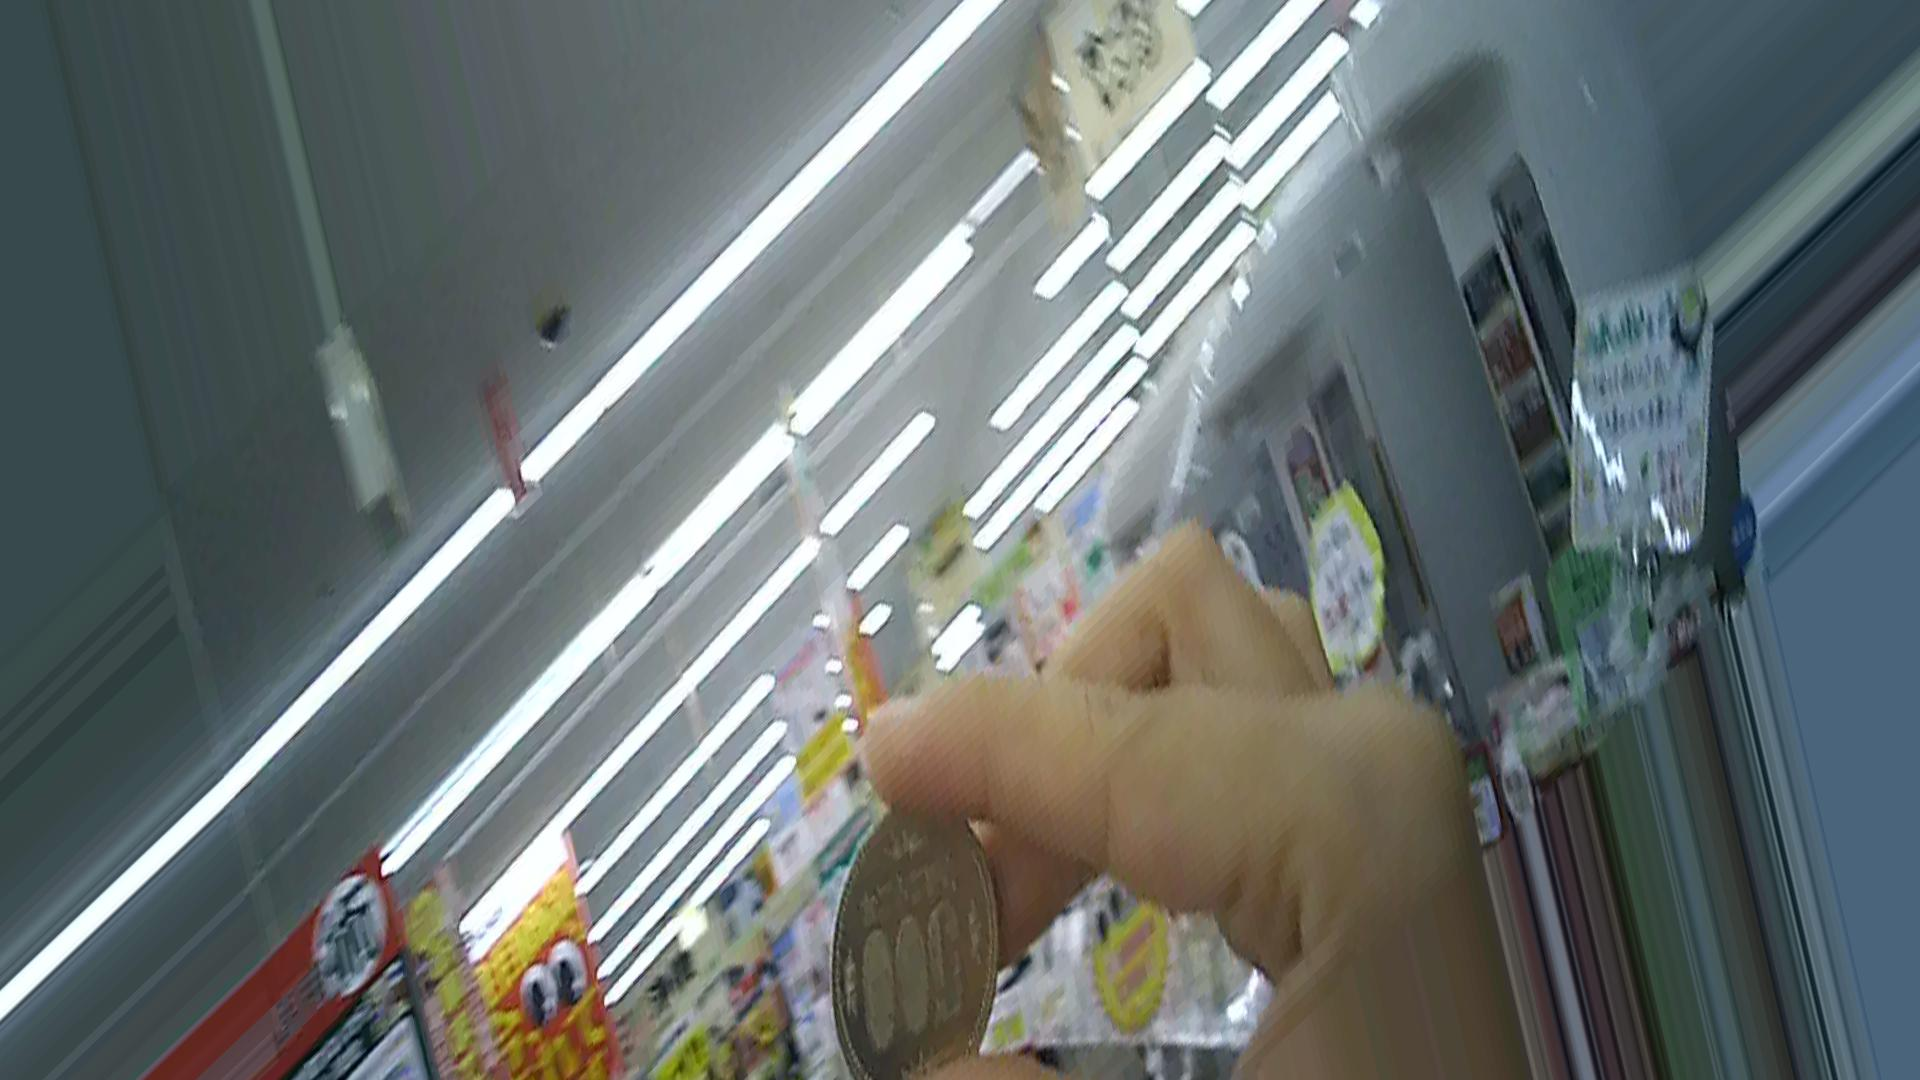500 Yen: (825, 802, 1013, 1079)
